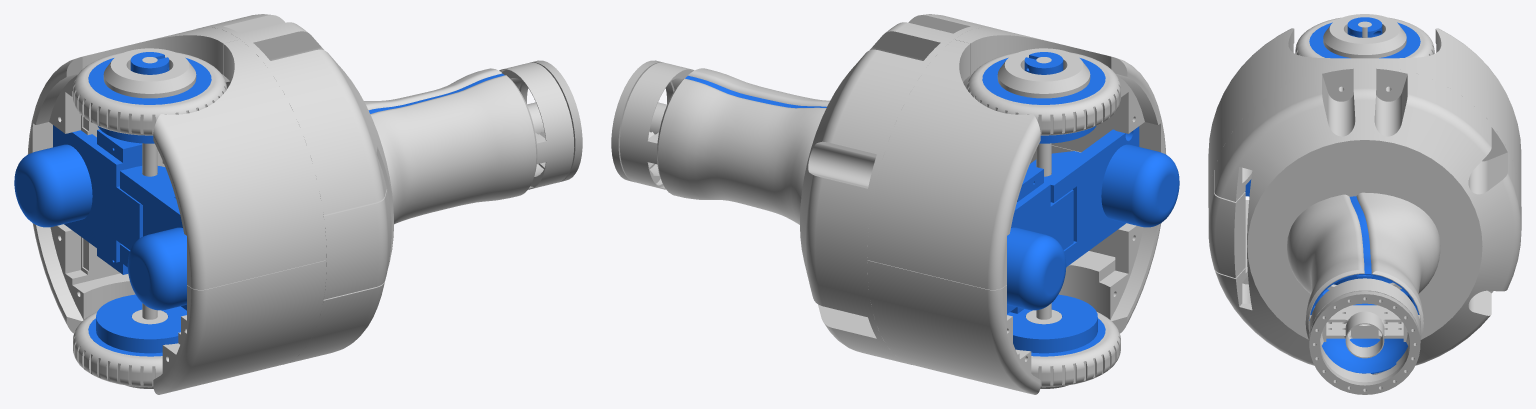
The picture shows the model from 3 angles, left to right: view 1: azimuth 30°, elevation 25°; view 2: azimuth 150°, elevation 25°; view 3: azimuth 270°, elevation 25°; orthographic projection. The views are drawn at different scales.
Size of the model in its own units: 0.7018 by 0.454 by 0.4501.
